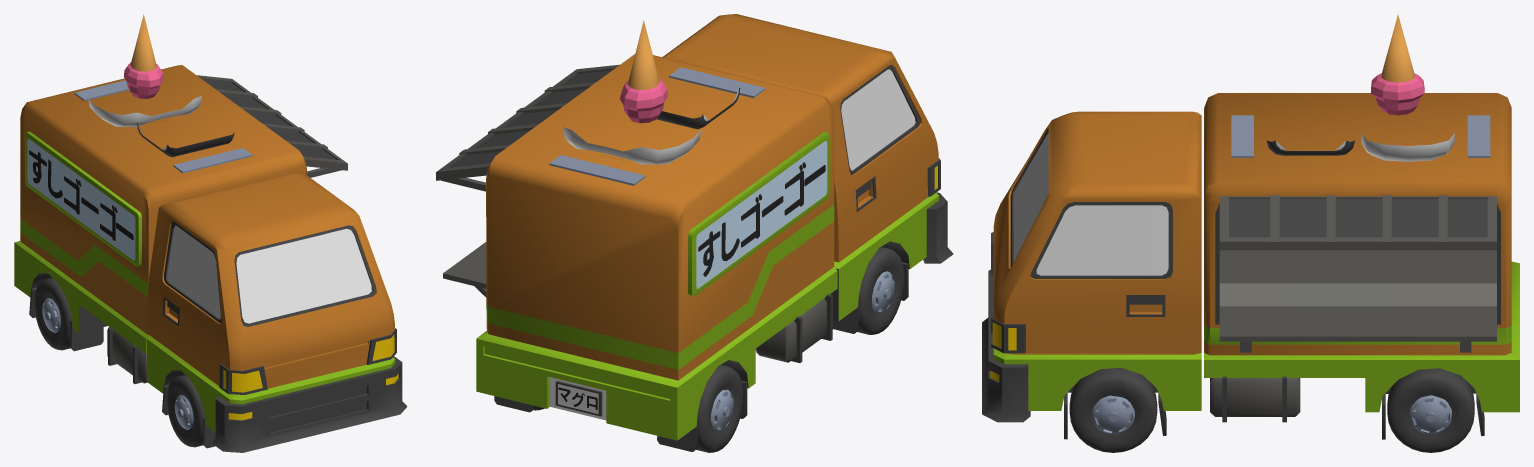
Rendered from veh_car_icecream_truck.glb.
3 renders of one model, left to right at view 1: azimuth 30°, elevation 25°; view 2: azimuth 150°, elevation 25°; view 3: azimuth 270°, elevation 25°, orthographic. The views are drawn at different scales.
Visible parts, largest first — view 1: Truck, pasted__pCylinder4 group; view 2: Truck, pasted__pCylinder4 group; view 3: Truck, pasted__pCylinder4 group.
Part boxes in pixels (bbox=[...]): Truck: bbox=[14, 65, 407, 452]; pasted__pCylinder4 group: bbox=[123, 14, 163, 98]; Truck: bbox=[436, 14, 953, 452]; pasted__pCylinder4 group: bbox=[620, 20, 667, 123]; Truck: bbox=[982, 93, 1519, 452]; pasted__pCylinder4 group: bbox=[1371, 14, 1424, 115].
Size of the model in its own units: 3.06 by 4.34 by 5.43.
5 materials, 1 textured.
